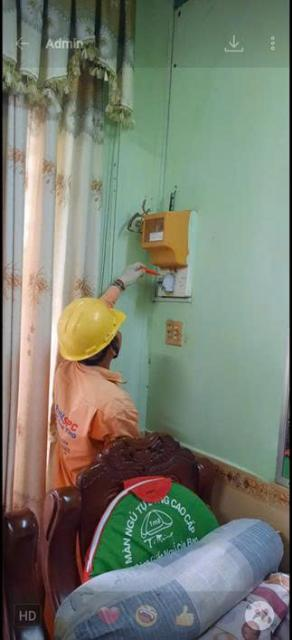gloves: (107, 256, 159, 290)
helmet: (41, 292, 129, 361)
